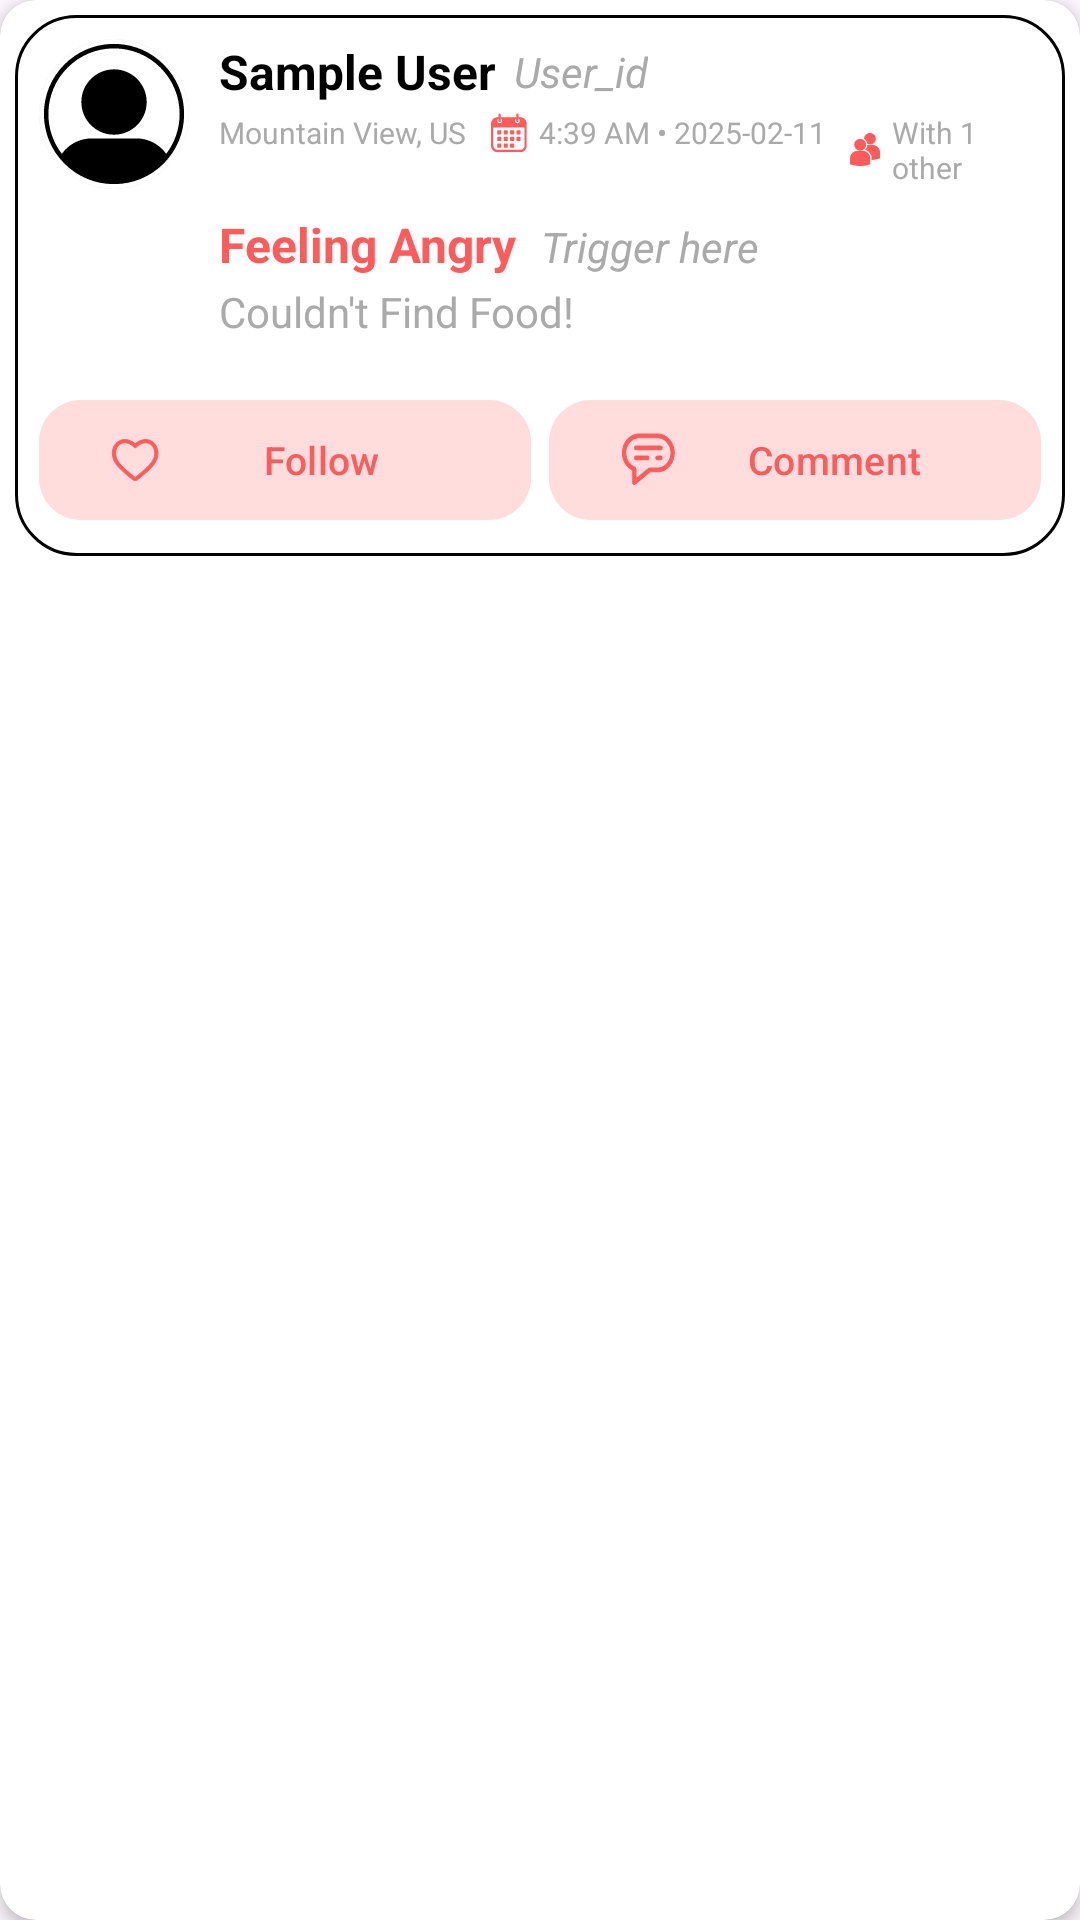

Icon click points for this 1080×1920 phone screenshot, format (x=x, y=y):
profile: (x=114, y=114)
